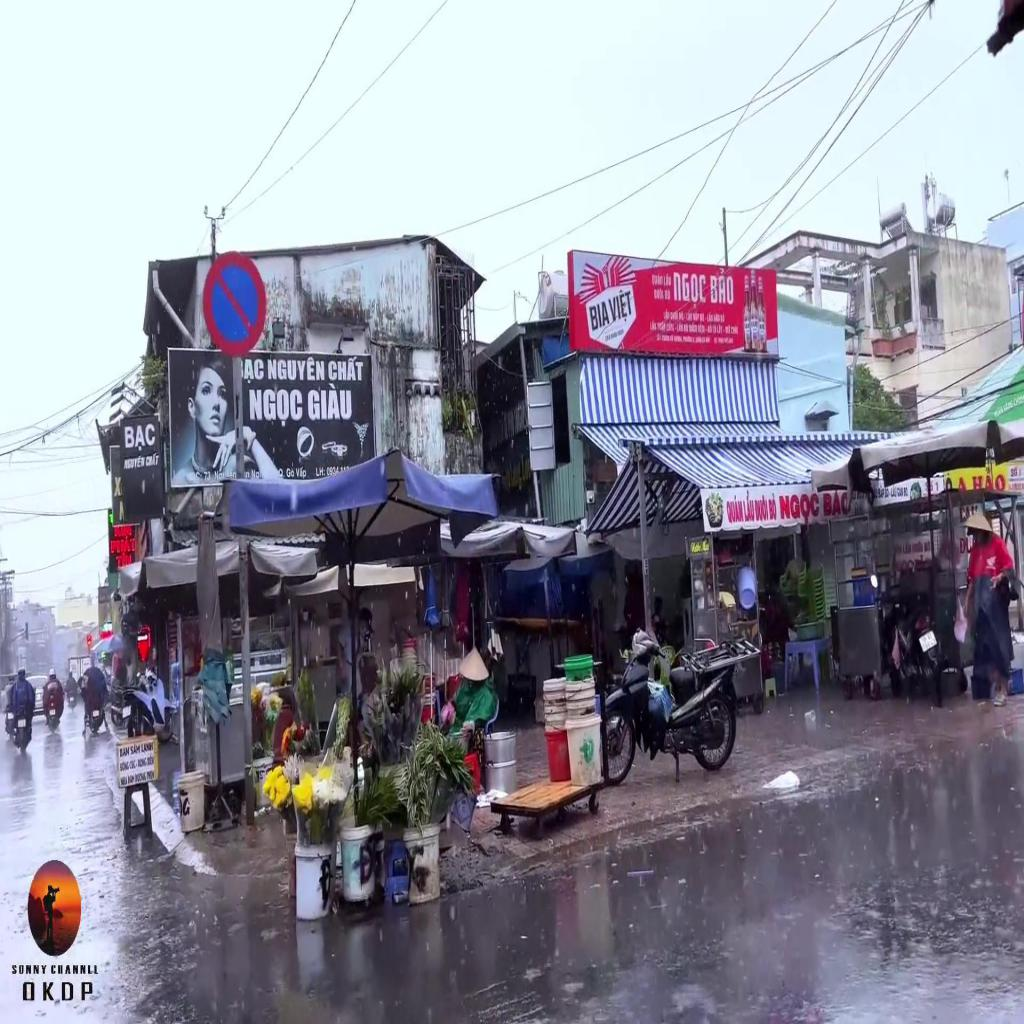cam_do_xe: (203, 252, 266, 358)
